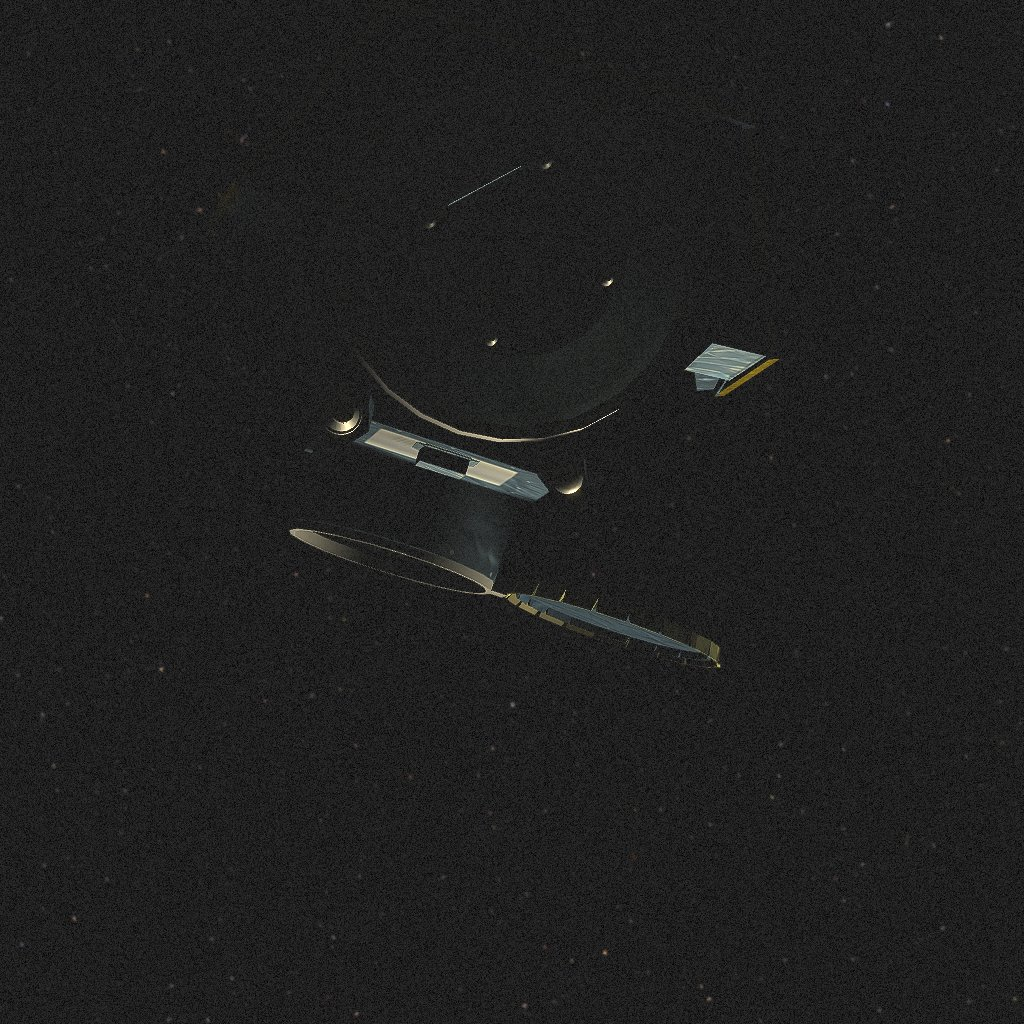cheops: (204, 0, 780, 667)
